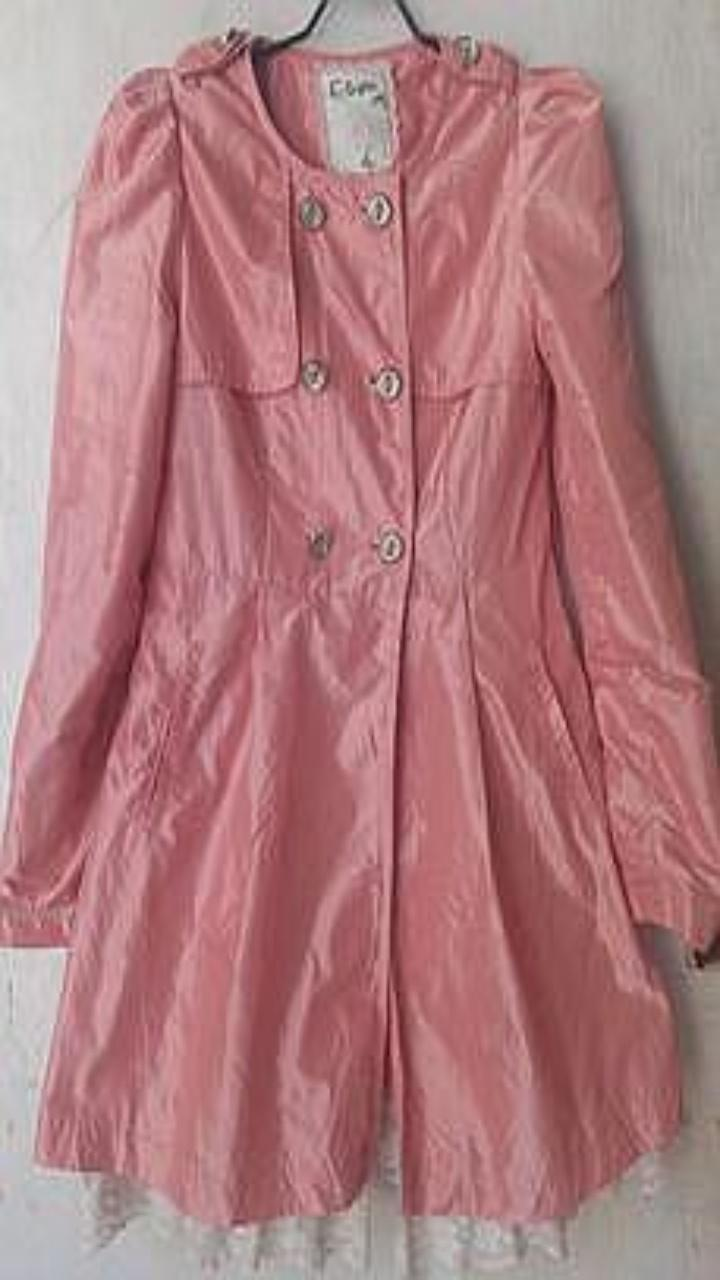Coat: (0, 31, 719, 1224)
